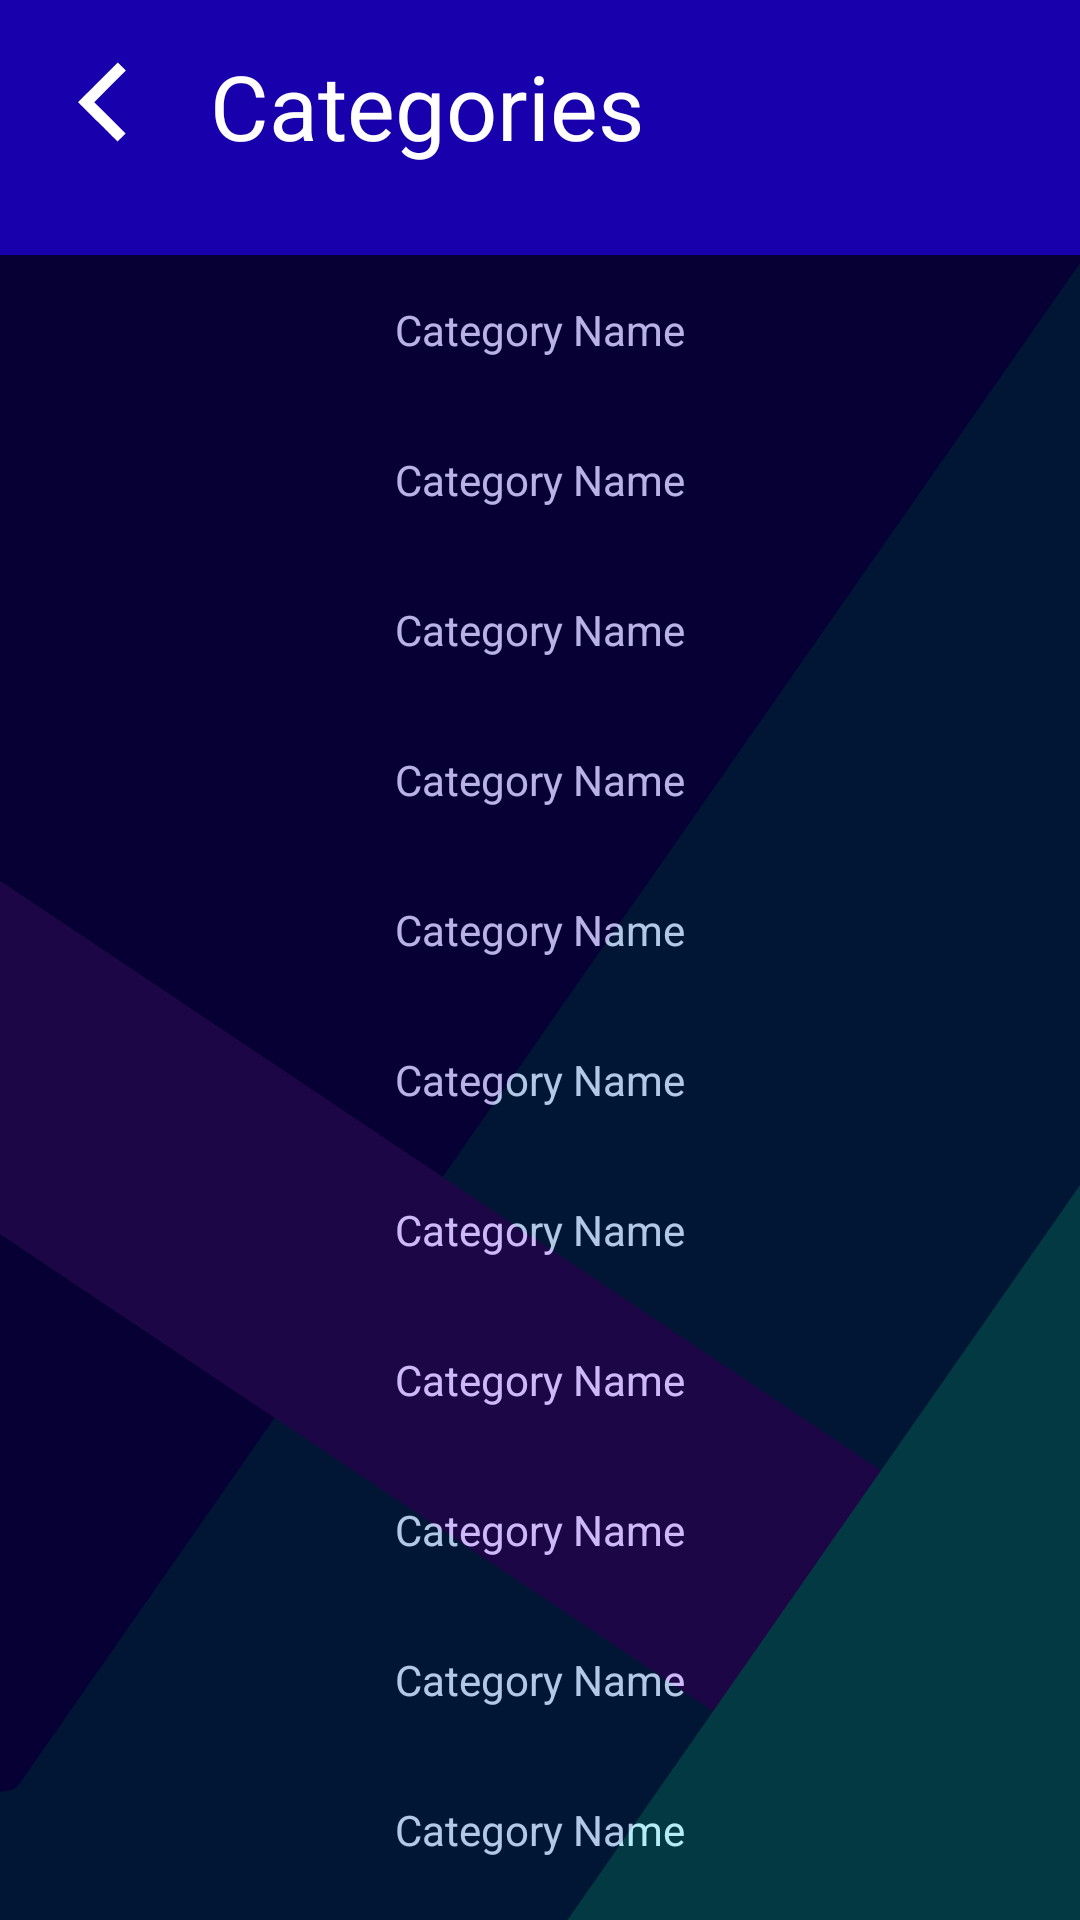

Icon bounding boxes for this 1080x1920 phone screenshot, format (x1, y1, x2, y2):
back: (78, 62, 126, 142)
